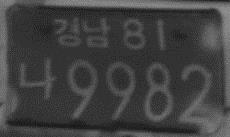1: (151, 16, 171, 53)
2: (177, 62, 214, 126)
8: (142, 60, 175, 122), (120, 15, 148, 51)
9: (66, 57, 99, 121), (104, 60, 138, 122)
경남_O: (52, 15, 113, 50)
나: (16, 55, 59, 102)
